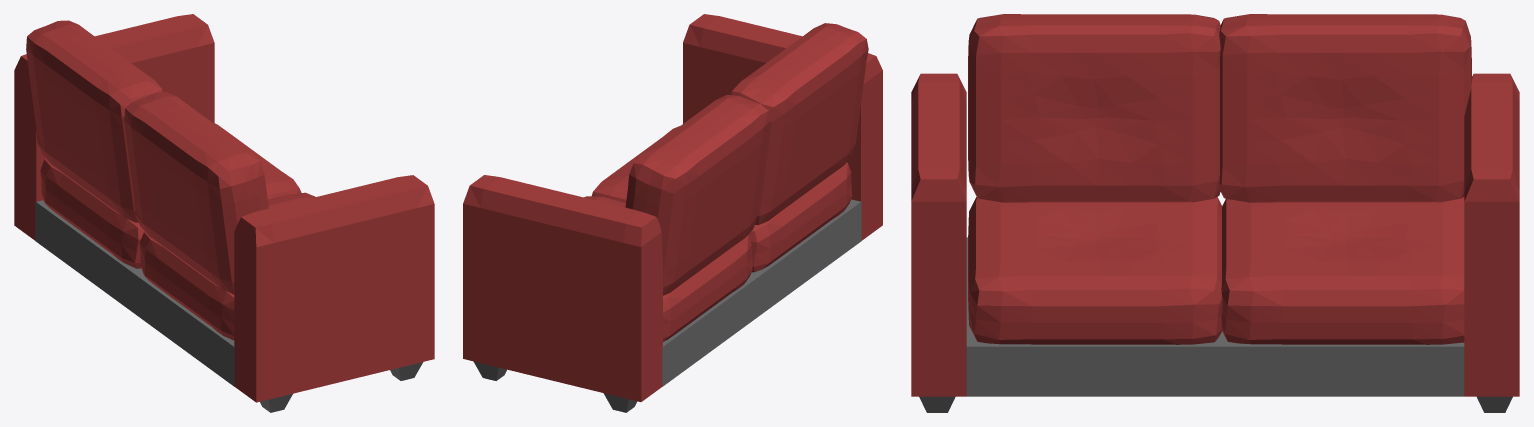
3 views of the same model, side by side, from view 1: azimuth 30°, elevation 25°; view 2: azimuth 150°, elevation 25°; view 3: azimuth 270°, elevation 25° (orthographic). The views are drawn at different scales.
Visible parts, largest first — view 1: framecote1 (×2), coussin1 (×4), frameBas; view 2: framecote1 (×2), coussin1 (×4), frameBas; view 3: coussin1 (×4), framecote1 (×2), frameBas.
Boxes of the visible parts, box(x1,y1,x2,y2) form: framecote1 (×2): box(14, 14, 434, 402); coussin1 (×4): box(26, 20, 315, 340); frameBas: box(35, 200, 234, 386); framecote1 (×2): box(463, 14, 882, 401); coussin1 (×4): box(584, 23, 868, 341); frameBas: box(662, 199, 861, 386); coussin1 (×4): box(968, 14, 1471, 344); framecote1 (×2): box(911, 73, 1519, 396); frameBas: box(966, 237, 1464, 396).
Bounding box in the file's own units: 2.86 × 3.4 × 6.24.
